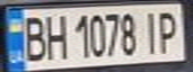0: (87, 10, 106, 58)
1: (69, 10, 90, 58)
7: (103, 10, 121, 57)
8: (118, 9, 142, 56)
B: (18, 11, 48, 62)
H: (42, 11, 69, 61)
I: (139, 7, 163, 56)
P: (154, 7, 184, 55)
